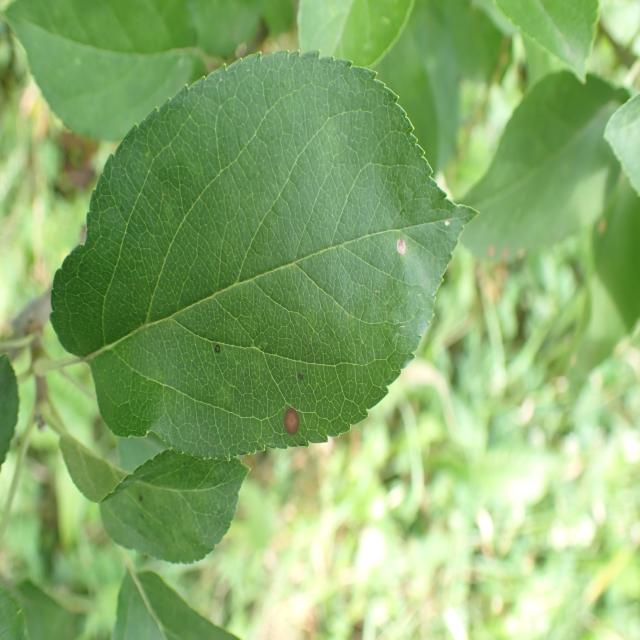Black Rot: (270, 374, 310, 461), (386, 210, 416, 259)
